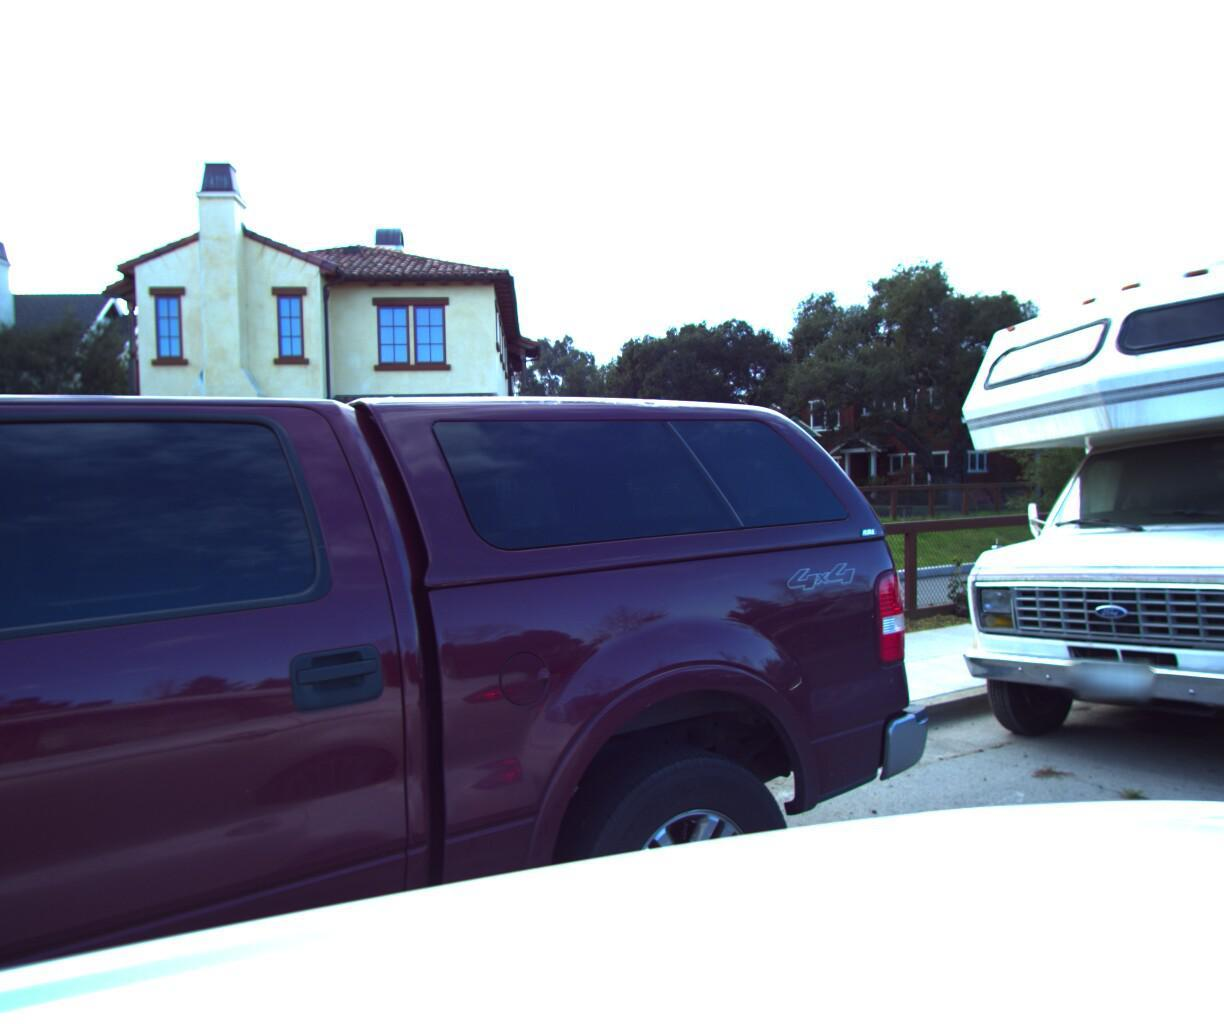bus: (911, 100, 1224, 862)
